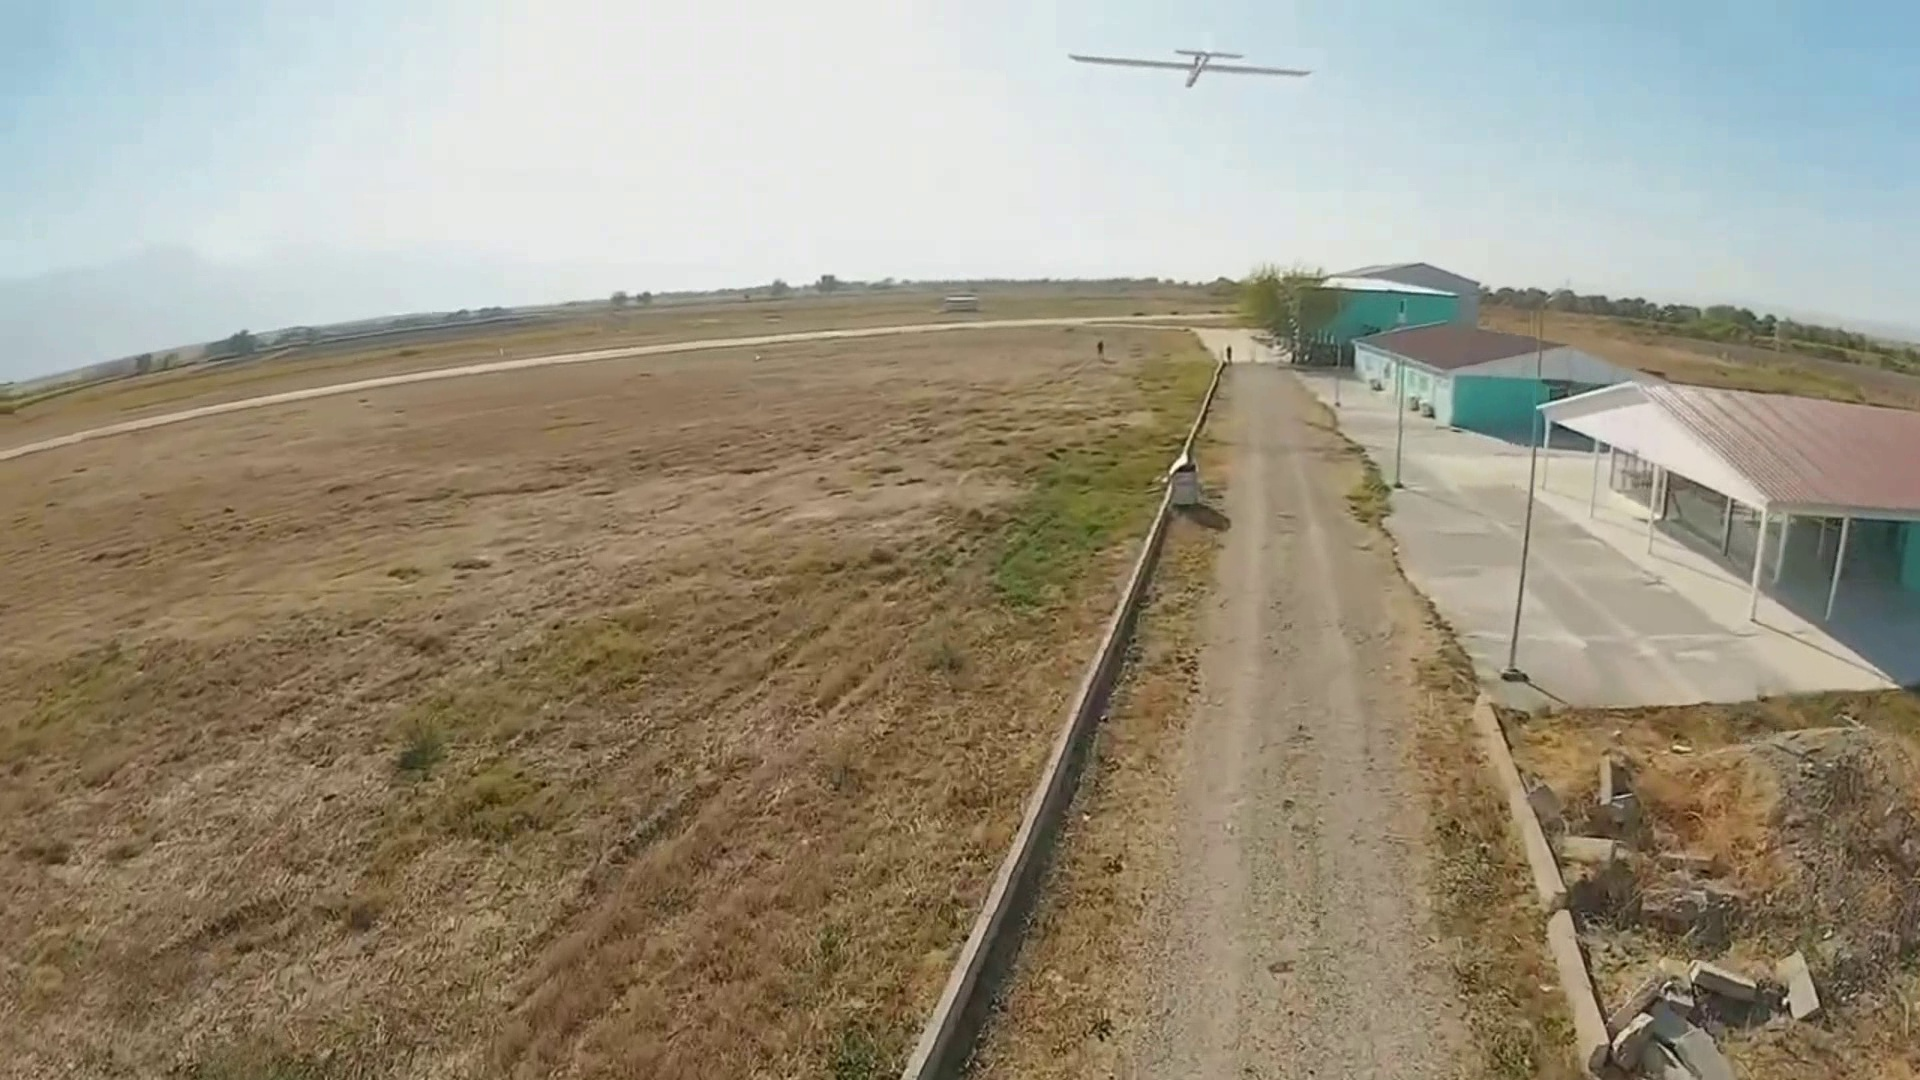airplane: (1065, 45, 1313, 88)
